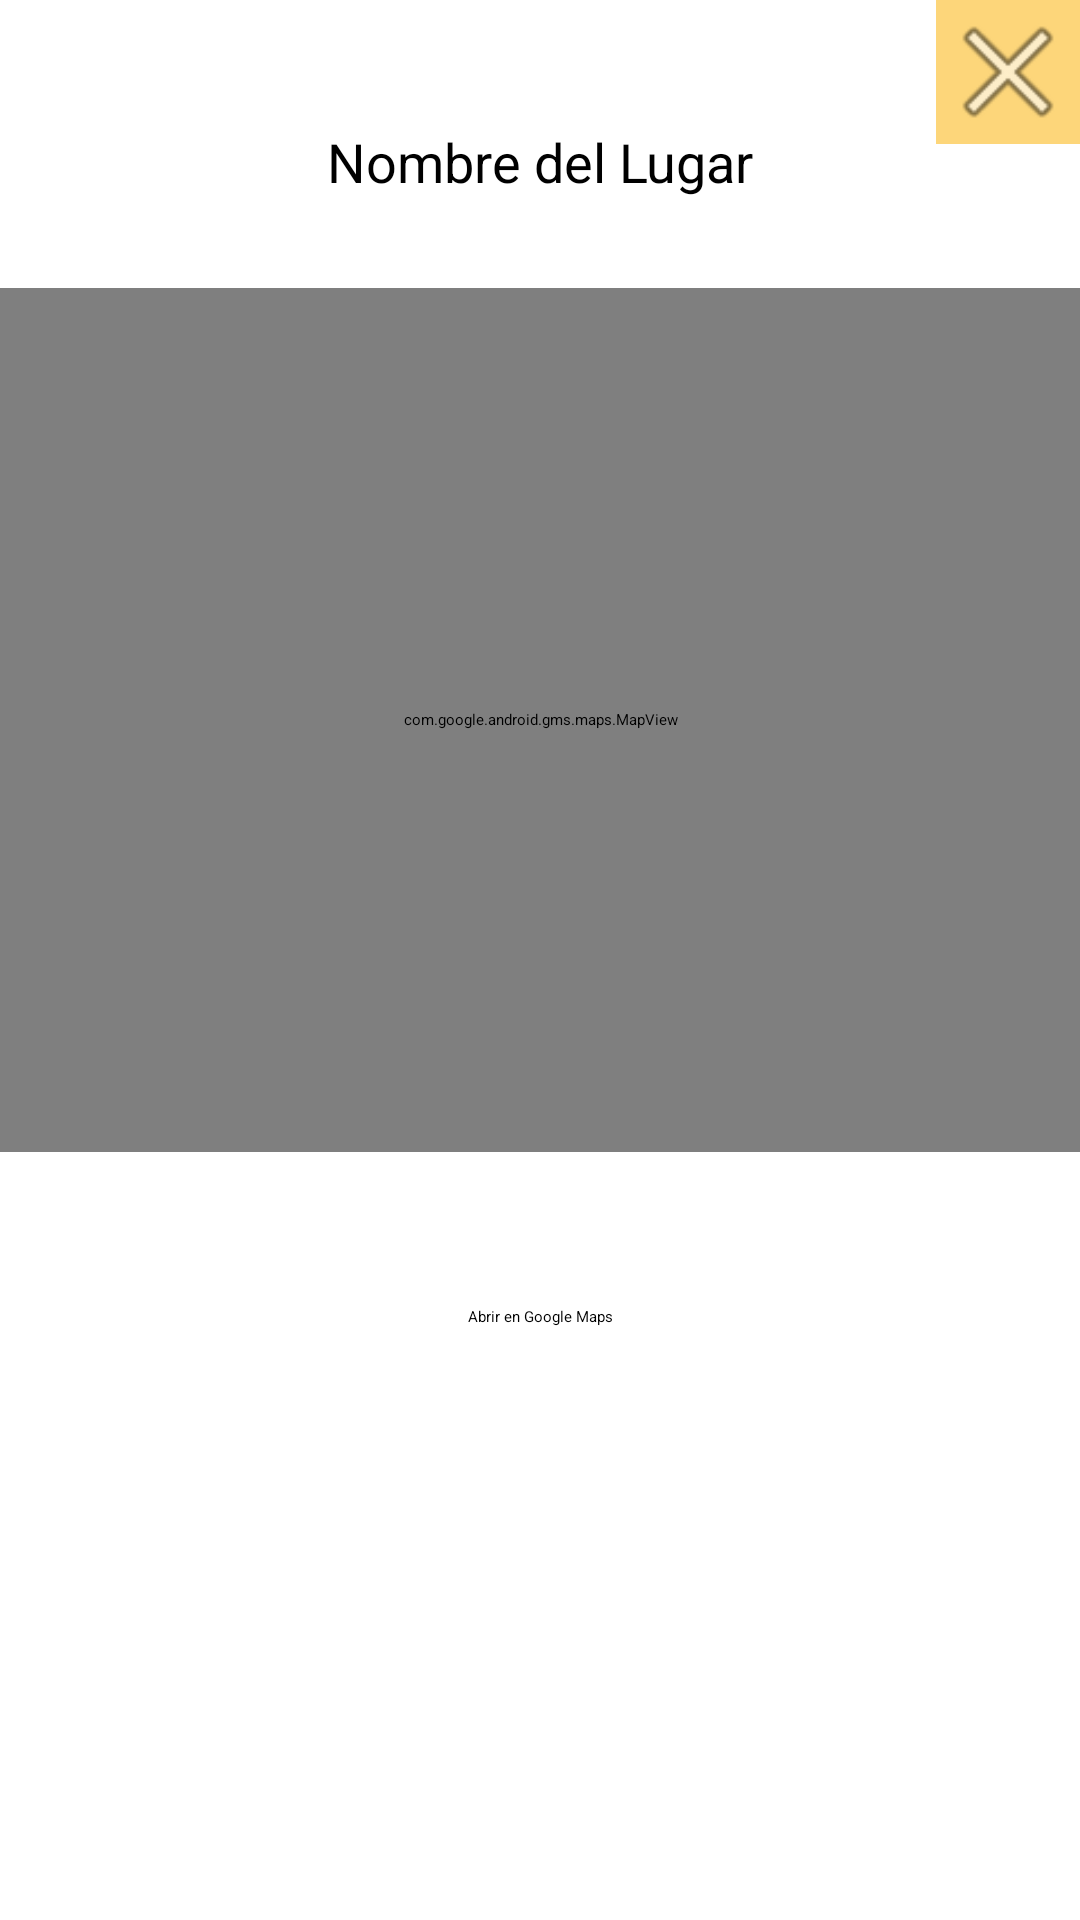

Icon bounding boxes for this 1080px×1920px phone screenshot, format (x1, y1, x2, y2):
Cerrar: (936, 0, 1080, 144)
